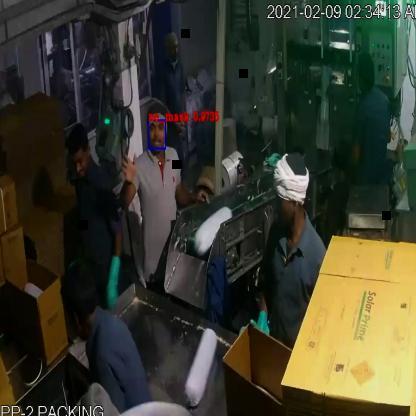glove: (96, 248, 129, 314)
no_glove: (112, 145, 144, 223), (170, 169, 213, 215)
